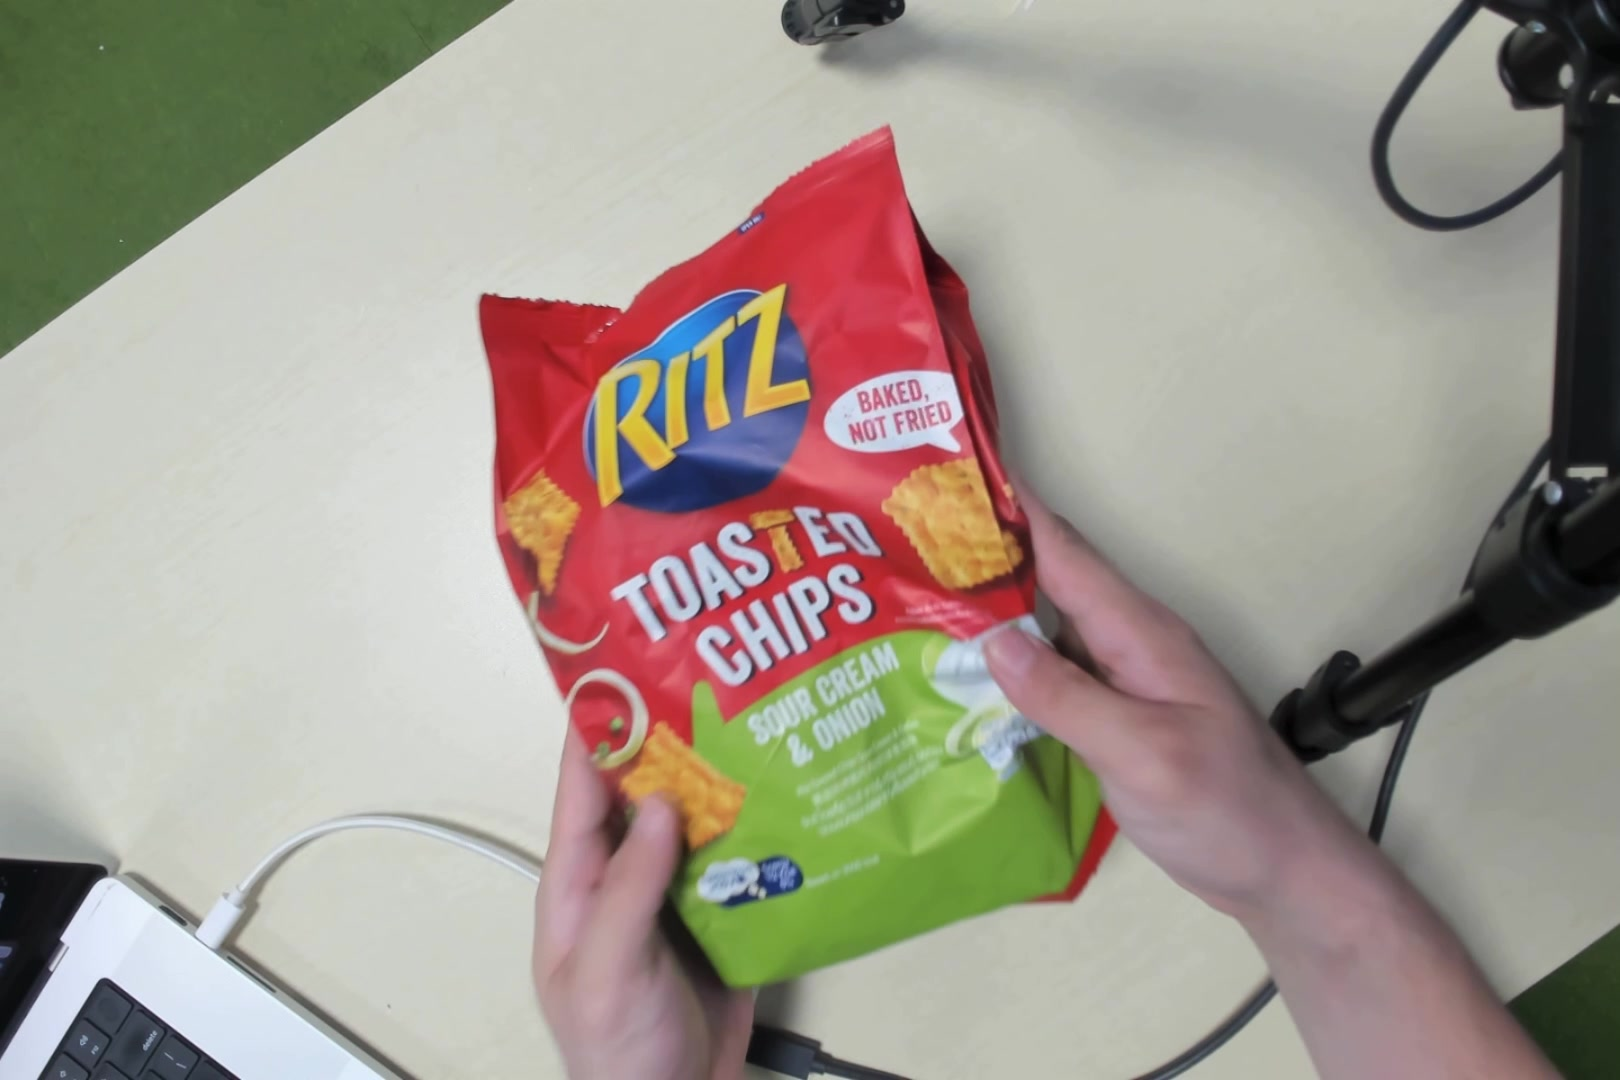BiscuitsCrackersCookies_200-299g_NonHalal_NonHealthy: (545, 233, 1045, 918)
